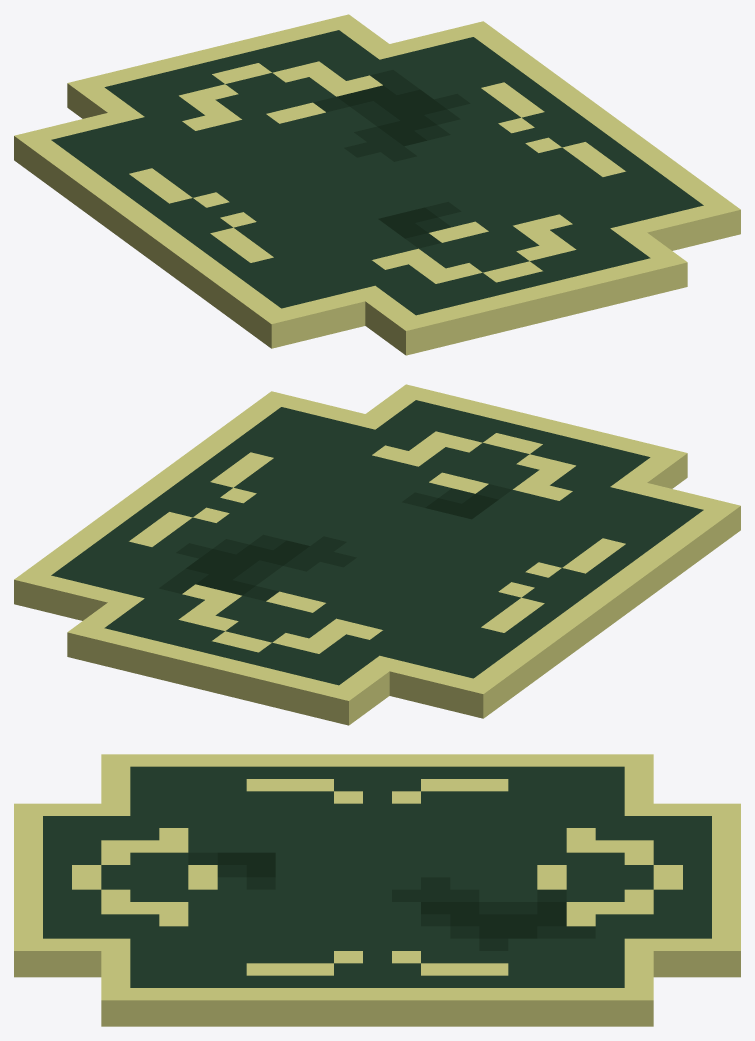
Rendered from GreenRug_03.obj.
The picture shows the model from 3 angles, top to bottom: view 1: azimuth 30°, elevation 25°; view 2: azimuth 150°, elevation 25°; view 3: azimuth 270°, elevation 25°; orthographic projection. The views are drawn at different scales.
Parts seen in each view (by area): view 1: GreenRug_03.001; view 2: GreenRug_03.001; view 3: GreenRug_03.001.
Part boxes in pixels (x1,y1,x2,y2): GreenRug_03.001: [14, 14, 740, 355]; GreenRug_03.001: [14, 384, 740, 725]; GreenRug_03.001: [14, 754, 740, 1026].
Bounding box in the file's own units: 2 × 0.1 × 2.5.
